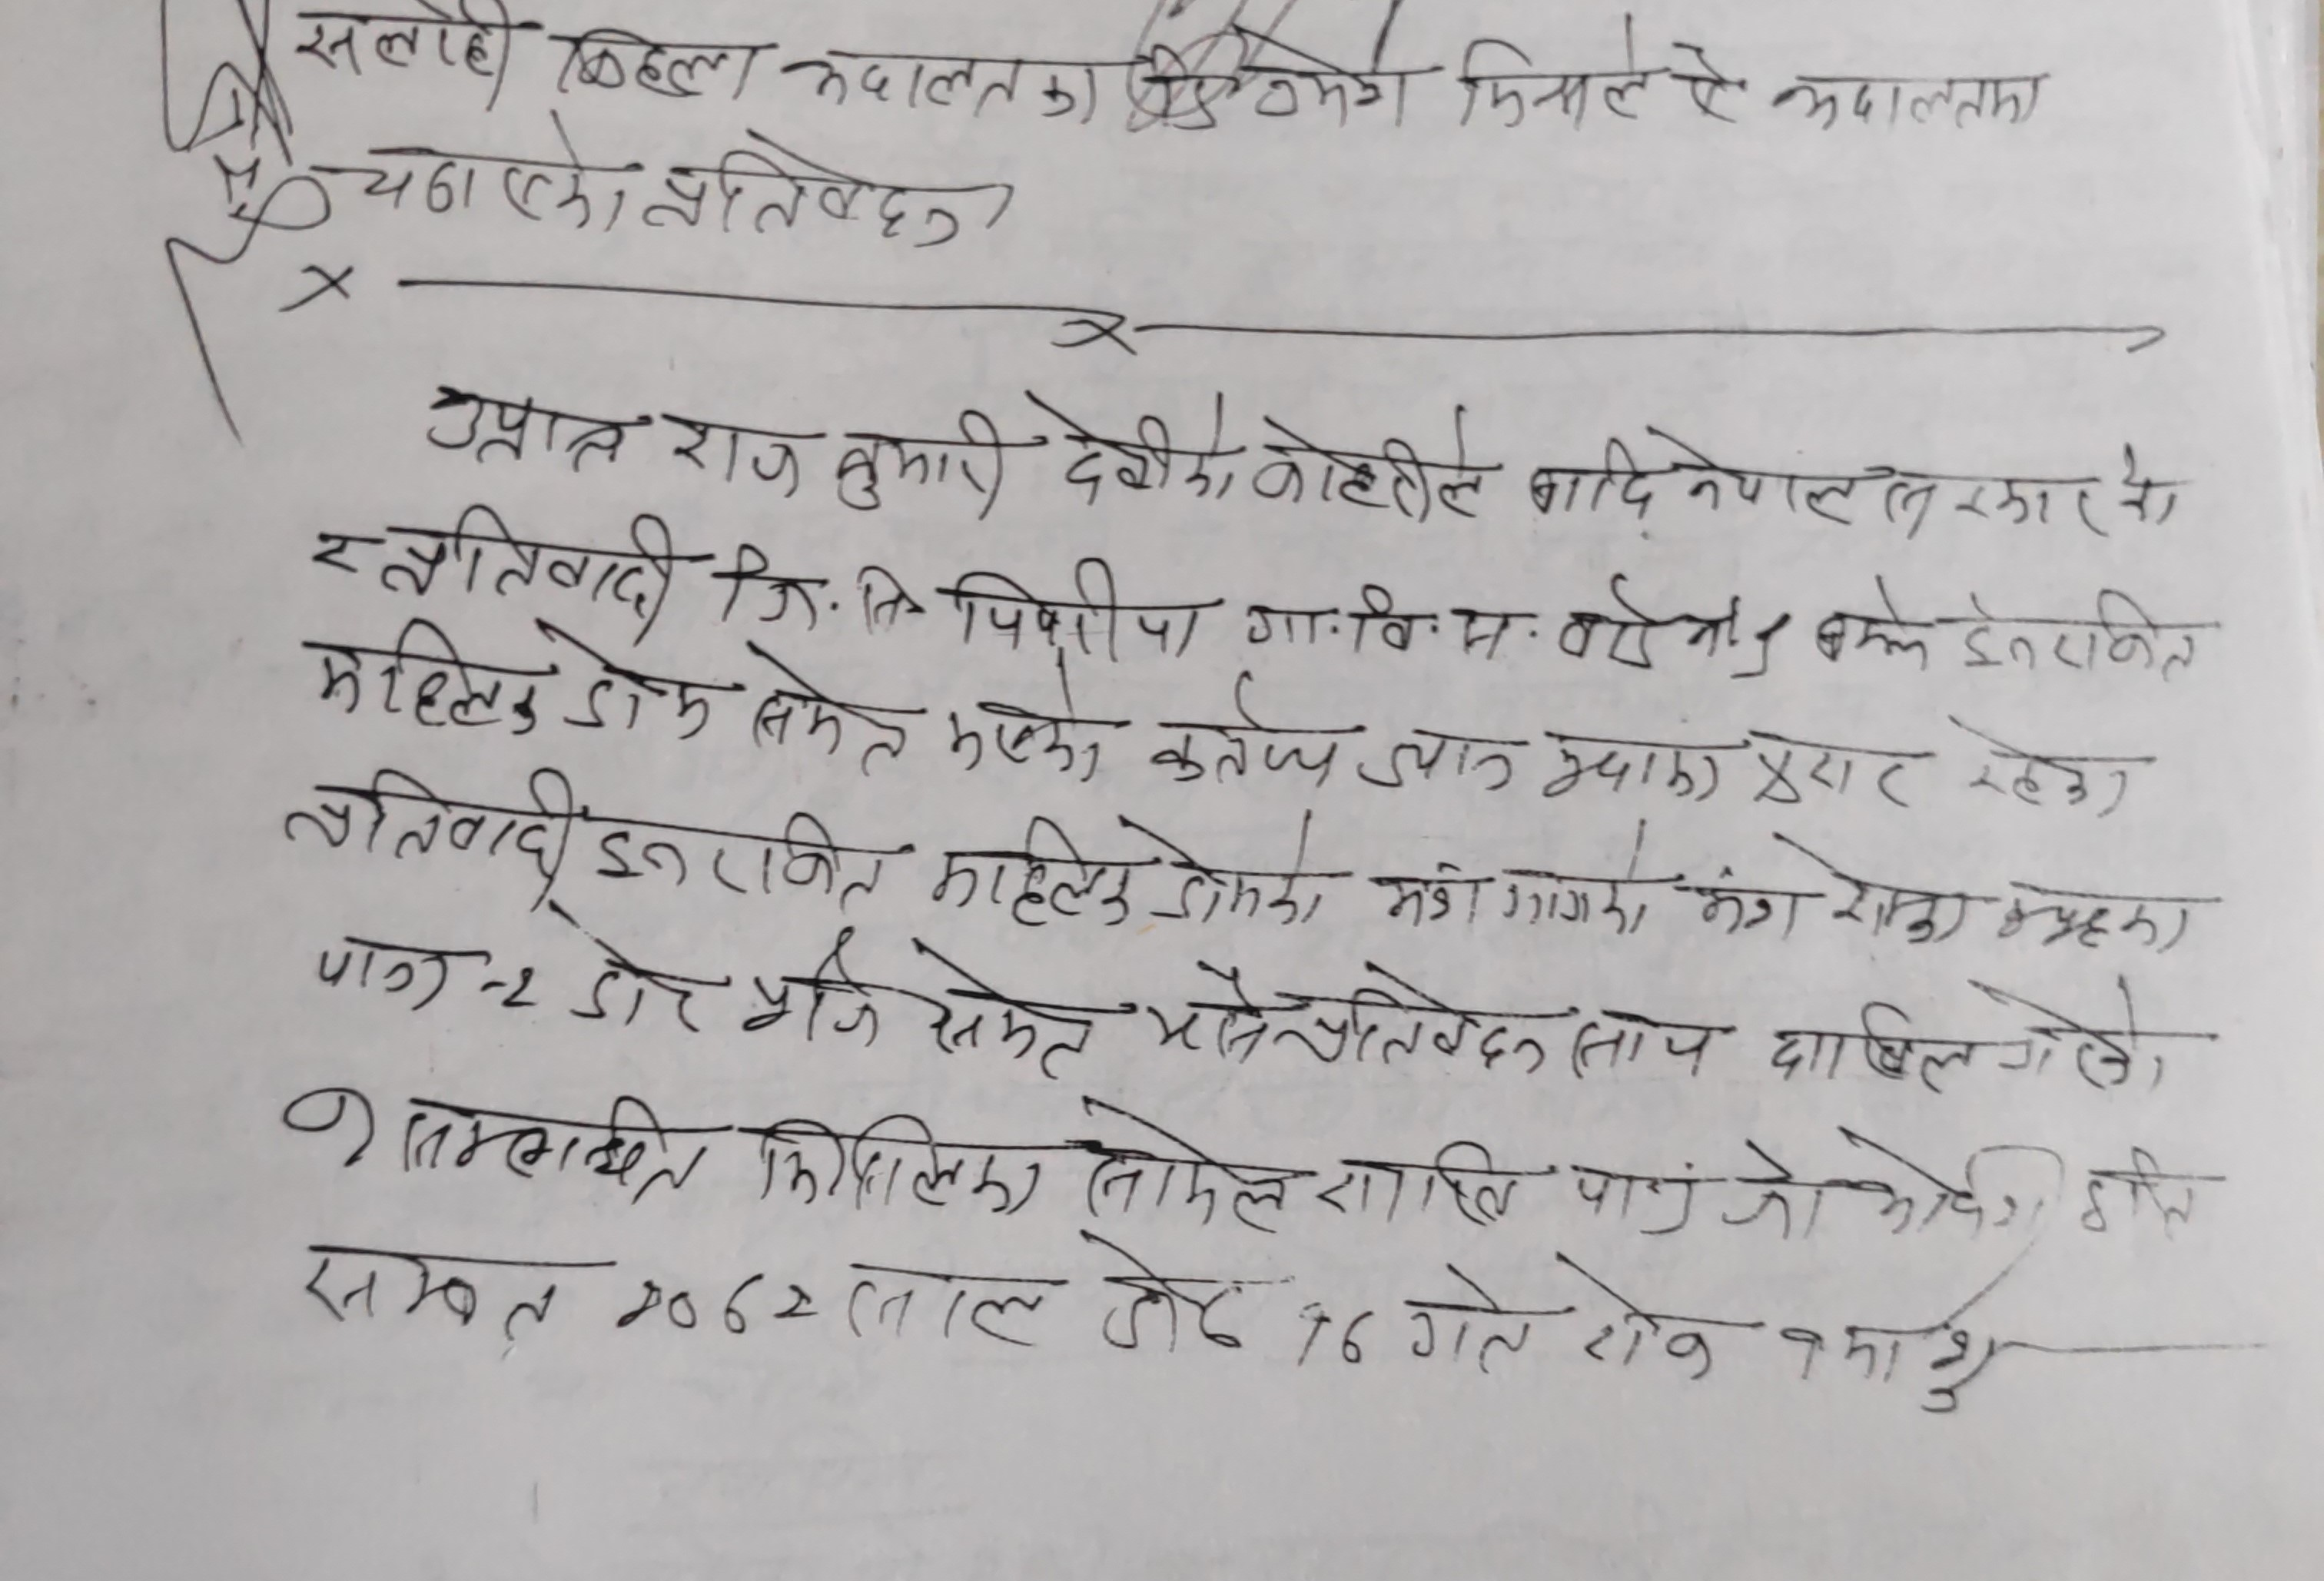text: (637, 125, 1022, 252), (399, 1080, 709, 1207), (379, 489, 693, 614), (335, 109, 632, 242), (275, 761, 582, 882), (736, 1110, 1048, 1226), (1292, 955, 1556, 1087), (593, 798, 896, 912), (1071, 1094, 1295, 1239), (1835, 1124, 2072, 1255), (304, 612, 545, 738), (780, 35, 1103, 129), (948, 551, 1212, 662), (1251, 402, 1498, 521), (907, 935, 1105, 1082), (298, 1233, 565, 1339), (923, 810, 1143, 930), (1966, 584, 2211, 688), (1239, 577, 1525, 665), (734, 642, 919, 776), (1038, 393, 1241, 515), (828, 1256, 1064, 1360), (1075, 1233, 1262, 1360), (1758, 999, 1987, 1098), (828, 406, 1016, 526), (1149, 683, 1345, 798), (1489, 817, 1661, 948), (1461, 18, 1659, 131), (736, 918, 895, 1057), (288, 2, 514, 95), (1311, 1135, 1521, 1235), (942, 665, 1121, 783), (1154, 812, 1332, 930), (418, 381, 632, 478), (715, 536, 923, 635), (1770, 65, 2050, 138), (545, 914, 709, 1038), (1563, 1262, 1728, 1385), (1671, 429, 1869, 529), (1952, 718, 2148, 819), (1996, 981, 2176, 1090), (1742, 722, 1932, 820), (559, 626, 722, 741), (1989, 877, 2208, 962), (1840, 1306, 2003, 1417), (1539, 718, 1731, 812), (1399, 1258, 1551, 1373), (1814, 849, 1978, 955), (549, 23, 766, 101), (1888, 468, 2107, 543), (1355, 706, 1521, 801), (618, 1267, 821, 1345), (1140, 953, 1276, 1066), (1521, 423, 1661, 524), (2073, 1145, 2209, 1248), (1562, 999, 1722, 1085), (660, 409, 803, 506), (1805, 572, 1936, 671), (309, 930, 457, 1015), (1549, 570, 1662, 679), (1572, 1156, 1715, 1240), (1671, 858, 1812, 942), (1728, 1136, 1830, 1253), (275, 1075, 386, 1170), (1279, 1295, 1385, 1380), (1380, 854, 1491, 926), (1671, 39, 1756, 129), (1680, 591, 1752, 667), (304, 517, 371, 591), (1773, 1315, 1826, 1396)
